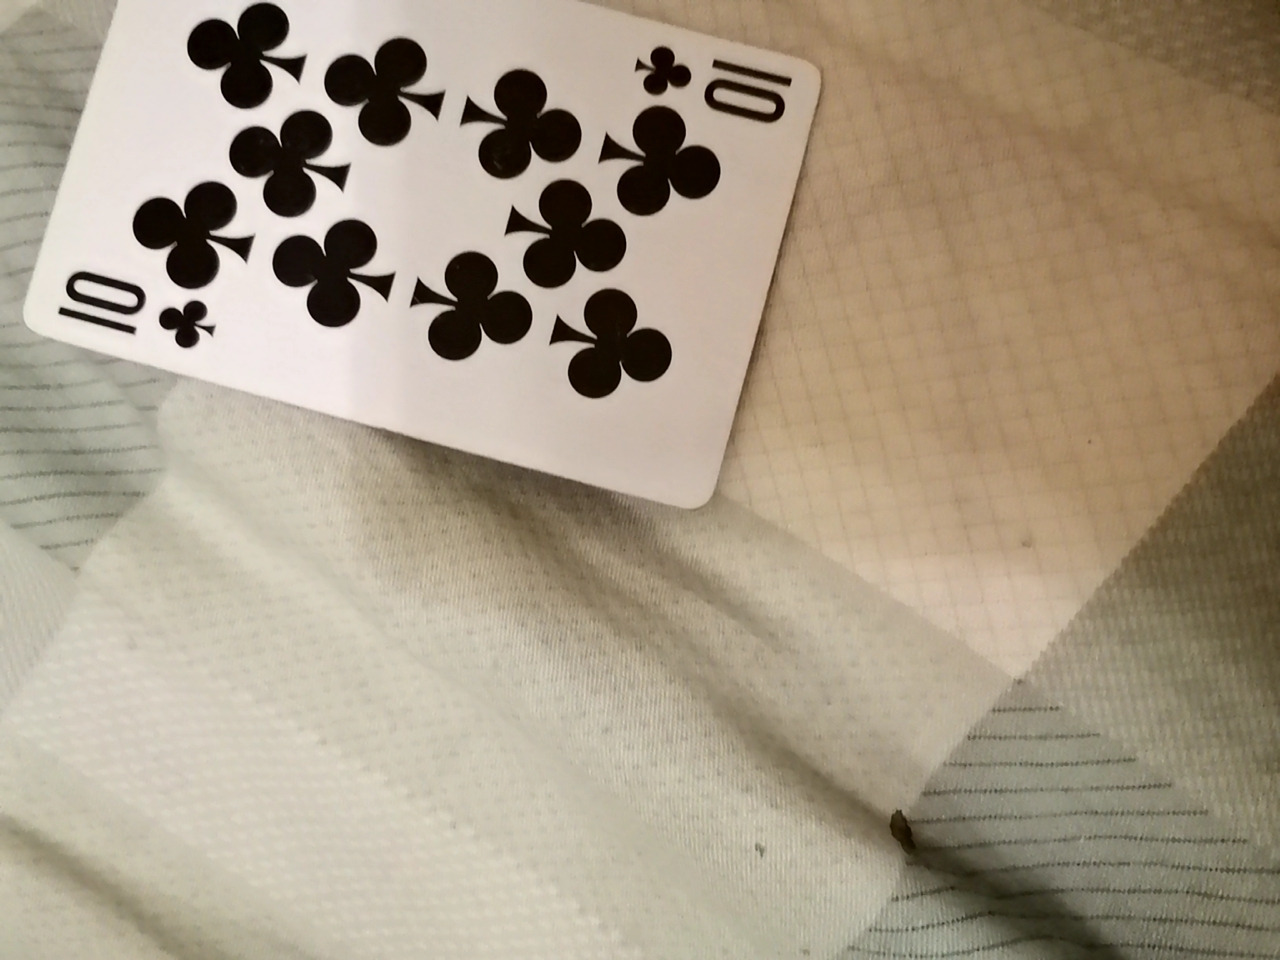mh 10: (36, 3, 829, 514)
